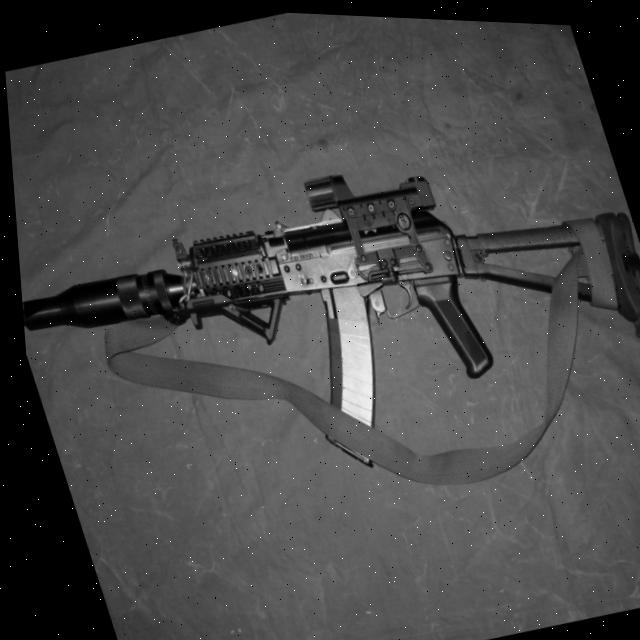firearm: (5, 91, 640, 543)
